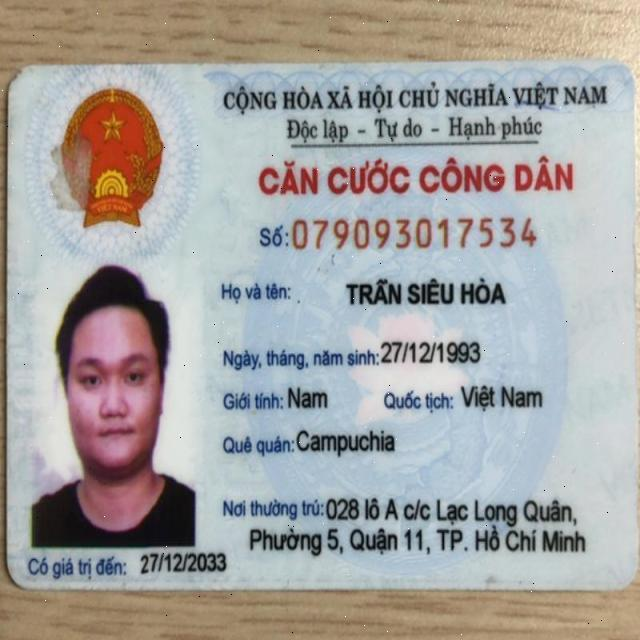current_place: (246, 521, 598, 556), (321, 490, 580, 531)
dob: (380, 335, 486, 375)
expire_date: (140, 549, 227, 577)
gender: (287, 378, 331, 415)
id: (290, 212, 540, 256)
name: (341, 273, 514, 313)
nationality: (460, 381, 549, 415)
origin_place: (293, 423, 396, 461)
